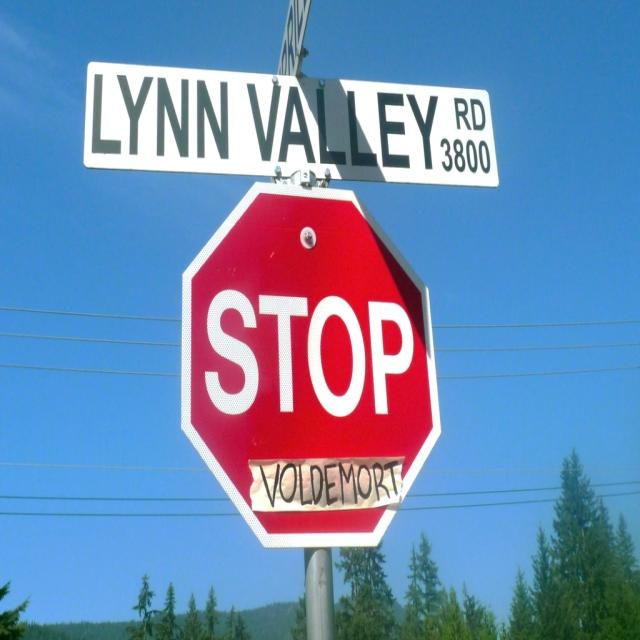Stop-sign: (180, 180, 442, 550)
